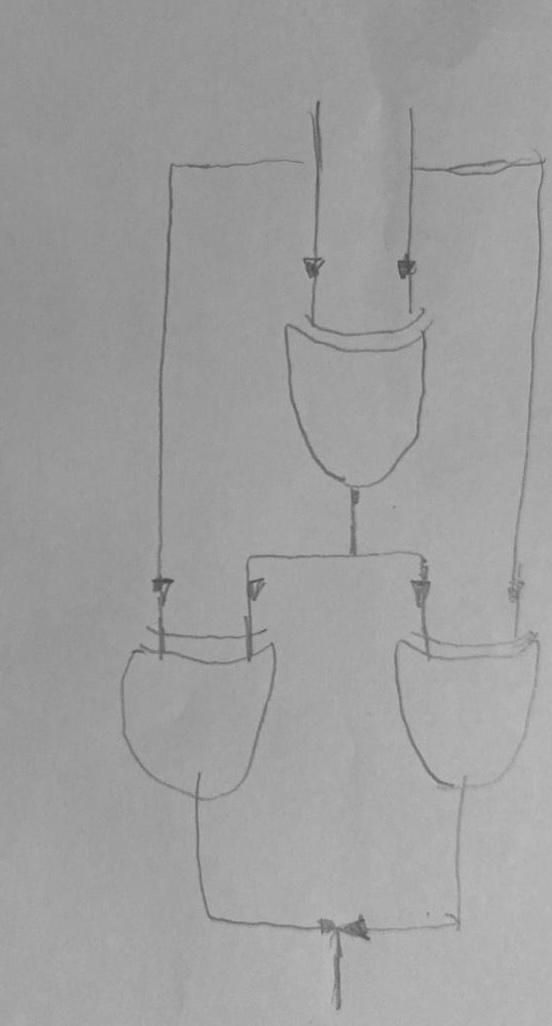XOR: (100, 602, 312, 828), (268, 298, 463, 512), (376, 610, 552, 811)
